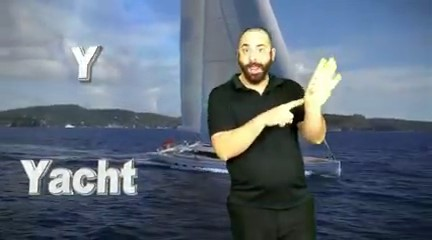Y: (260, 55, 346, 127)
